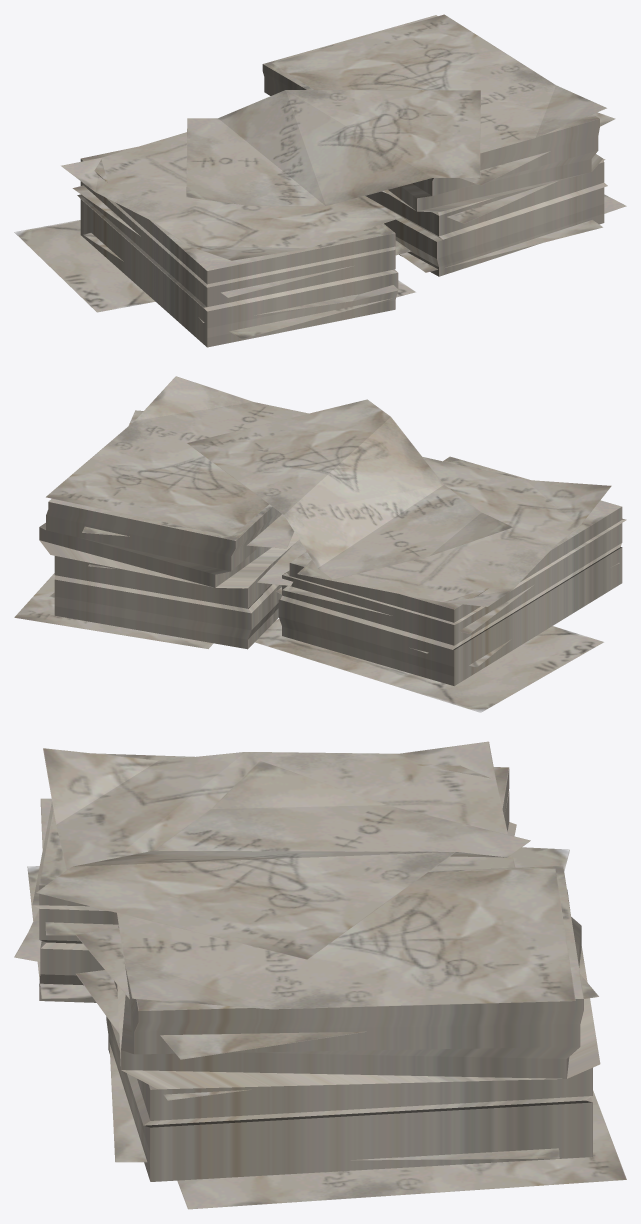
File: pilepapier2.glb
3 renders of one model, top to bottom at view 1: azimuth 30°, elevation 25°; view 2: azimuth 150°, elevation 25°; view 3: azimuth 270°, elevation 25°, orthographic. The views are drawn at different scales.
Visible parts, largest first — view 1: Plane.008; view 2: Plane.008; view 3: Plane.008.
Part boxes in pixels (x1,y1,x2,y2): Plane.008: (14,14,626,347); Plane.008: (14,376,626,712); Plane.008: (14,741,626,1209).
Size of the model in its own units: 0.7773 by 0.177 by 0.538.
5 materials, 5 textured.
